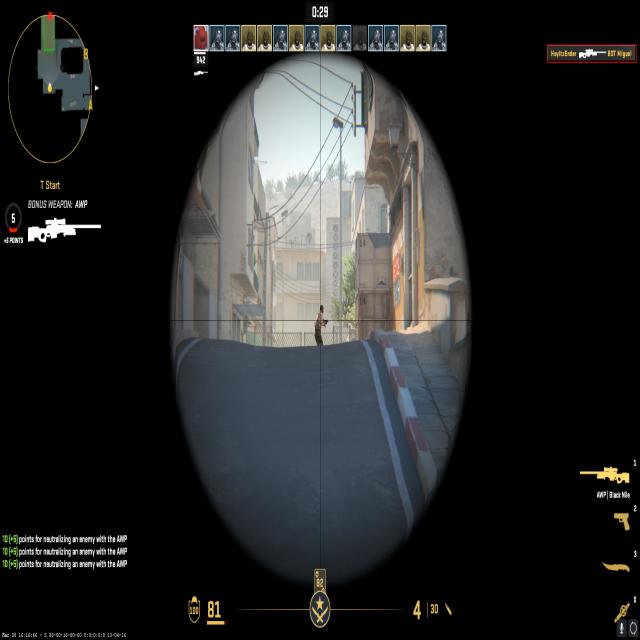t: (310, 300, 330, 345)
